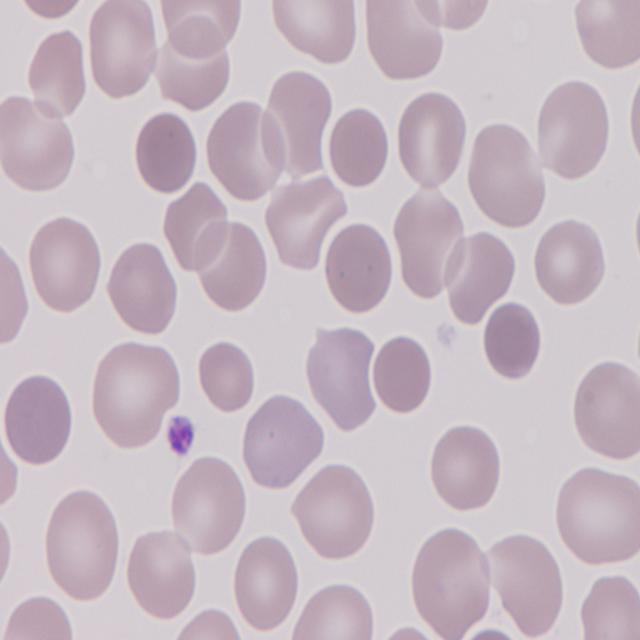RBC: (408, 524, 494, 640), (93, 344, 183, 450), (532, 72, 614, 183), (466, 119, 547, 231), (43, 488, 121, 604), (290, 459, 376, 563), (204, 99, 288, 204), (391, 189, 467, 305), (557, 464, 640, 570), (490, 536, 570, 640), (168, 451, 248, 554), (23, 214, 104, 315), (394, 90, 472, 192), (0, 96, 76, 200), (242, 394, 324, 489), (444, 228, 522, 326), (196, 214, 272, 314), (304, 326, 378, 428), (105, 239, 182, 336), (232, 533, 304, 636), (88, 0, 158, 104), (571, 359, 640, 464), (126, 530, 200, 626), (530, 215, 608, 306), (427, 424, 502, 518), (158, 182, 232, 276), (269, 0, 361, 69), (364, 0, 444, 79), (26, 23, 86, 120), (157, 0, 245, 59), (290, 581, 377, 640), (571, 0, 640, 73), (194, 337, 256, 412), (576, 571, 640, 640), (0, 235, 30, 353), (2, 593, 74, 640), (412, 0, 494, 37), (174, 608, 252, 640), (0, 495, 20, 599), (627, 64, 640, 175)
Spherocyte: (320, 216, 396, 316), (1, 373, 77, 466), (324, 104, 392, 194), (133, 108, 201, 198), (373, 330, 438, 416), (484, 300, 544, 382), (13, 0, 91, 28)
